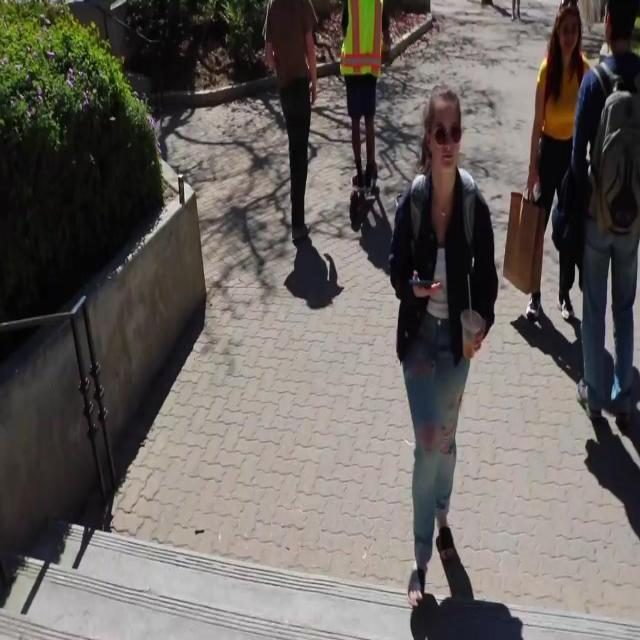no hat: (424, 80, 469, 138), (546, 0, 592, 49)
